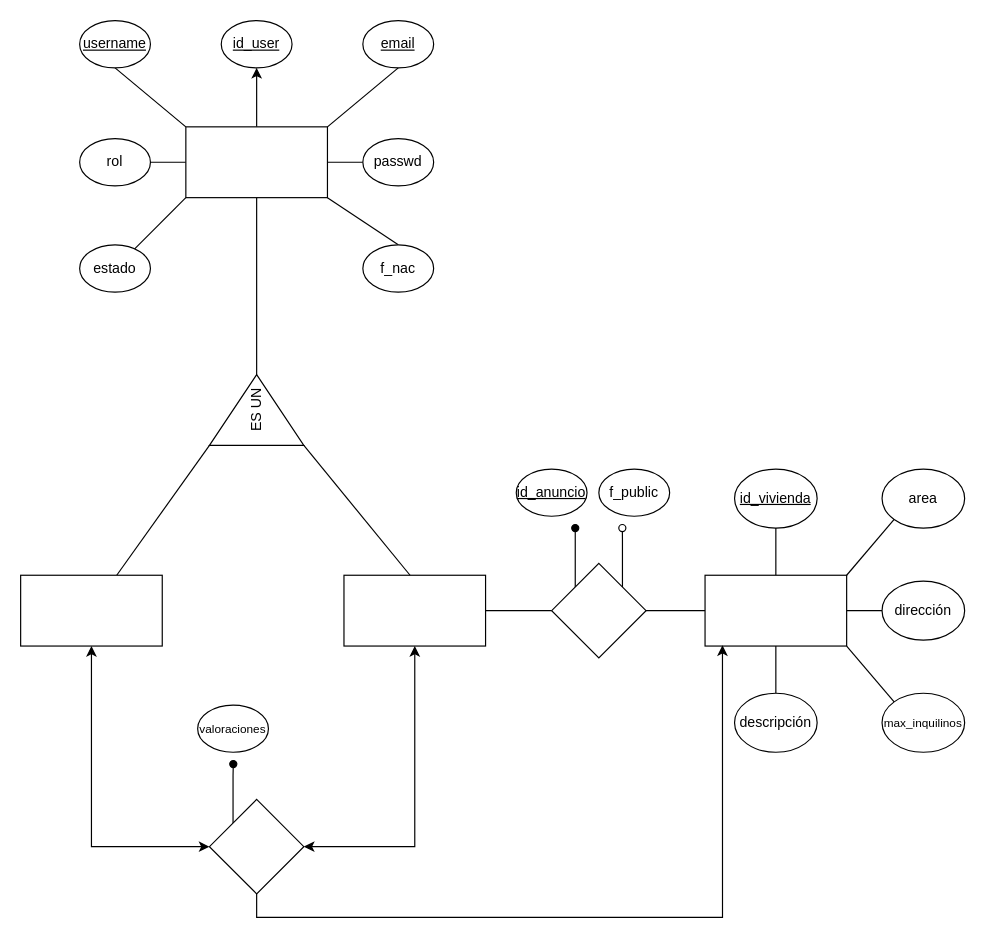
Some shapes in this 985 by 948 pixel diagram are drawn without their labels. The shapes that lost their labels are listed below. From the top down, each one's centre as x and y in pixels, then its label:
At point 256,162: "Usuarios".
At point 90,610: "Inquilino".
At point 414,610: "Casero".
At point 598,610: "Anuncia".
At point 775,610: "Vivienda".
At point 256,846: "valora".
